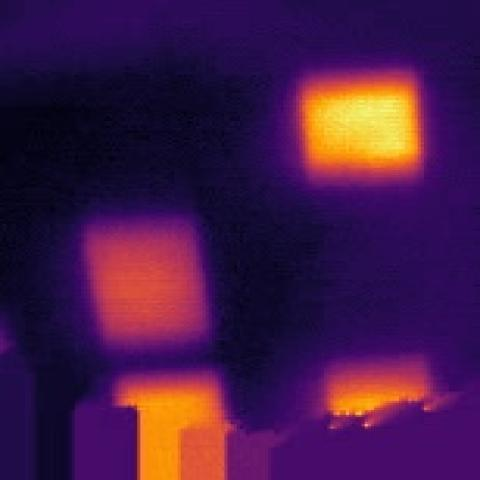fault: (68, 217, 222, 353), (291, 63, 434, 188), (107, 374, 242, 480), (315, 360, 454, 424)
